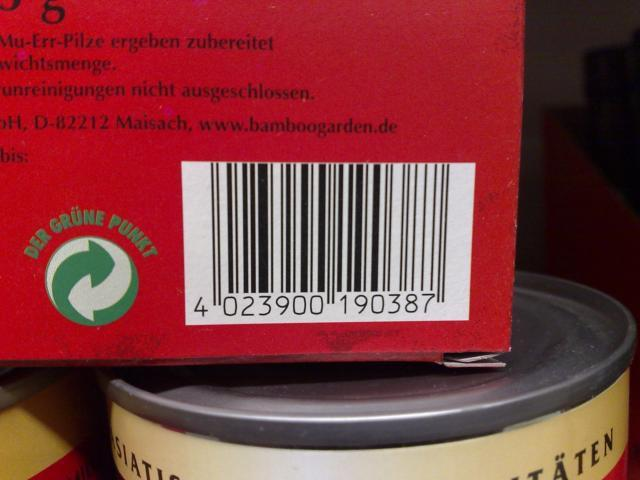Barcode: (182, 160, 476, 324)
